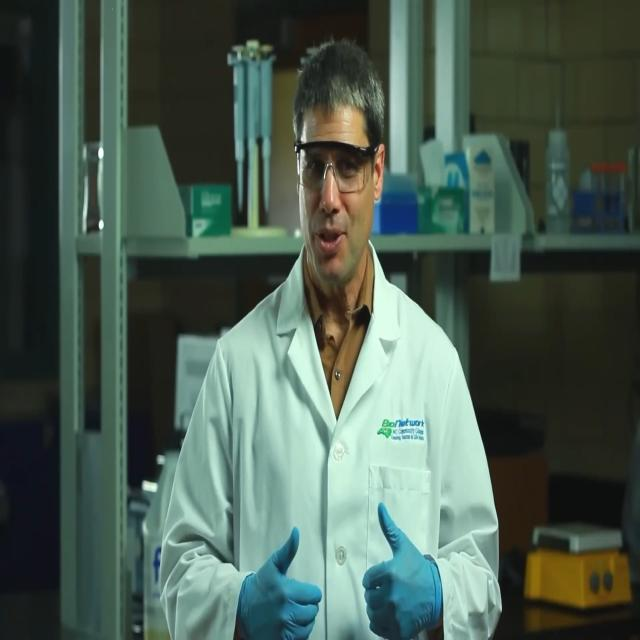googles: (295, 134, 381, 196)
labcoat: (157, 221, 505, 640)
